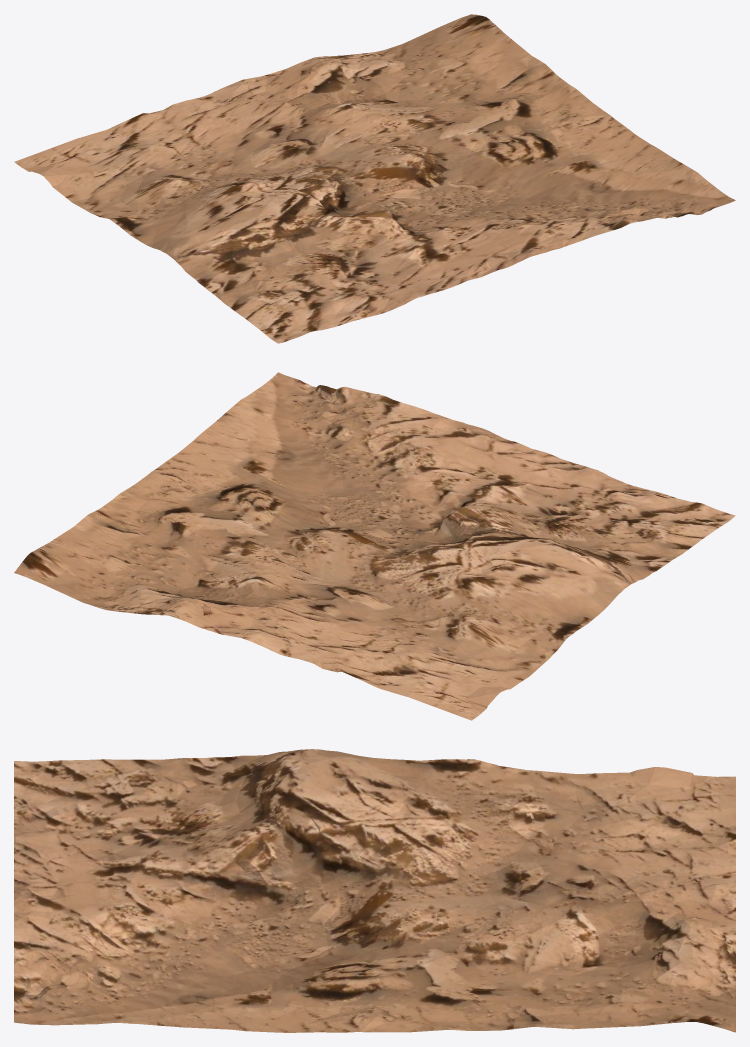
3 renders of one model, top to bottom at view 1: azimuth 30°, elevation 25°; view 2: azimuth 150°, elevation 25°; view 3: azimuth 270°, elevation 25°, orthographic. The views are drawn at different scales.
Bounding box in the file's own units: 1.04 × 0.1006 × 1.04.
2 materials, 2 textured.
